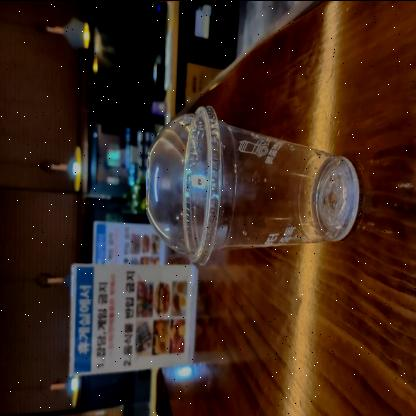Others: (147, 107, 363, 263)
